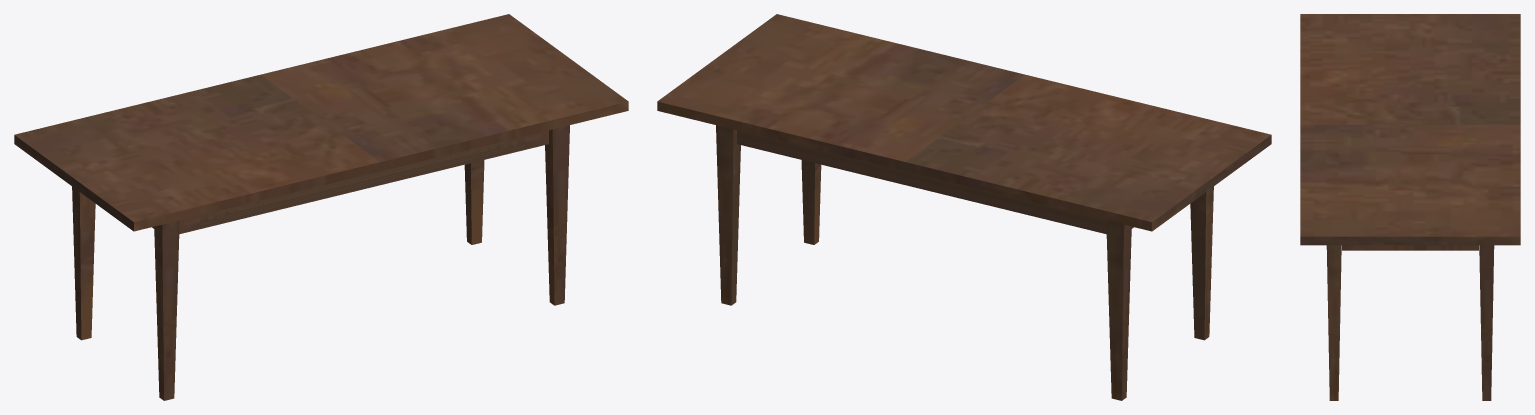
File: vintage_rectangle_table.glb
The picture shows the model from 3 angles, left to right: view 1: azimuth 30°, elevation 25°; view 2: azimuth 150°, elevation 25°; view 3: azimuth 270°, elevation 25°; orthographic projection. The views are drawn at different scales.
Parts seen in each view (by area): view 1: vintage_rectangle_table; view 2: vintage_rectangle_table; view 3: vintage_rectangle_table.
Boxes of the visible parts, bbox=[...] form: vintage_rectangle_table: bbox=[14, 14, 628, 400]; vintage_rectangle_table: bbox=[657, 14, 1271, 400]; vintage_rectangle_table: bbox=[1300, 14, 1520, 400].
Bounding box in the file's own units: 2.09 × 0.8142 × 0.875.
1 material, 1 textured.
